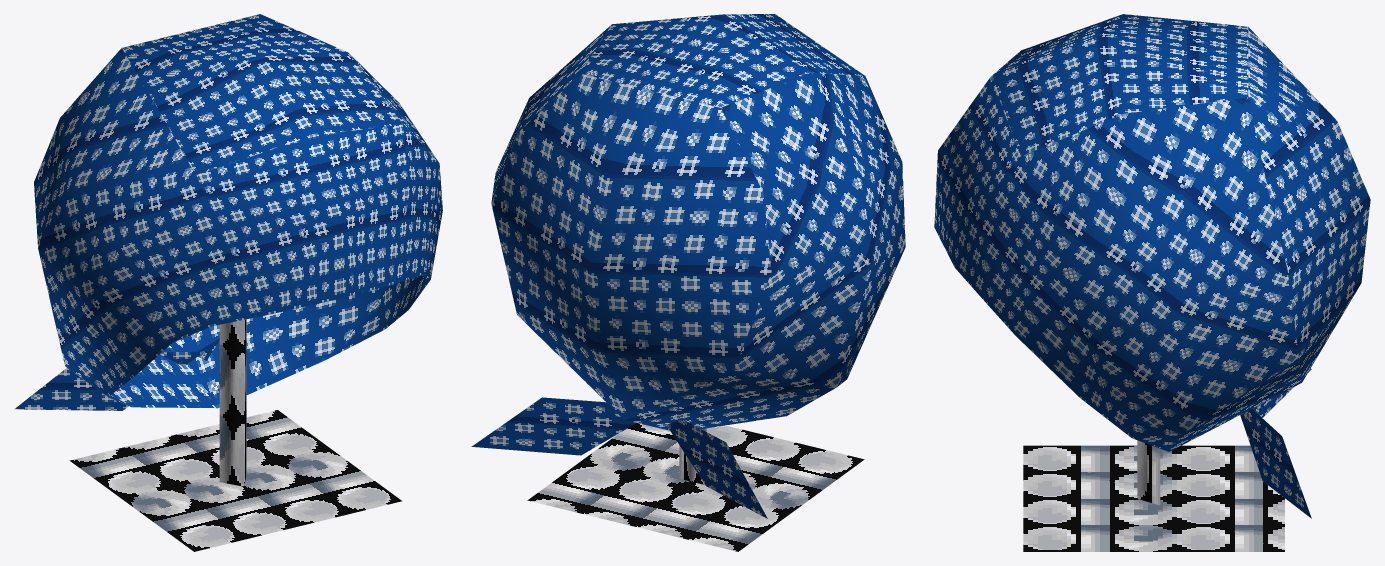
File: 2914head065_c.gltf
3 renders of one model, left to right at view 1: azimuth 30°, elevation 25°; view 2: azimuth 150°, elevation 25°; view 3: azimuth 270°, elevation 25°, orthographic. The views are drawn at different scales.
Parts seen in each view (by area): view 1: 2914head065_c; view 2: 2914head065_c; view 3: 2914head065_c.
Part boxes in pixels (x1=…): 2914head065_c: x1=14, y1=14, x2=442, y2=551; 2914head065_c: x1=471, y1=14, x2=905, y2=551; 2914head065_c: x1=934, y1=14, x2=1370, y2=551.
Size of the model in its own units: 0.8208 by 0.9399 by 0.801.
2 materials, 2 textured.
